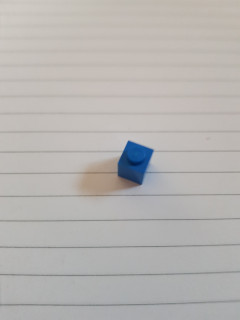1x1 blue: (115, 138, 156, 189)
